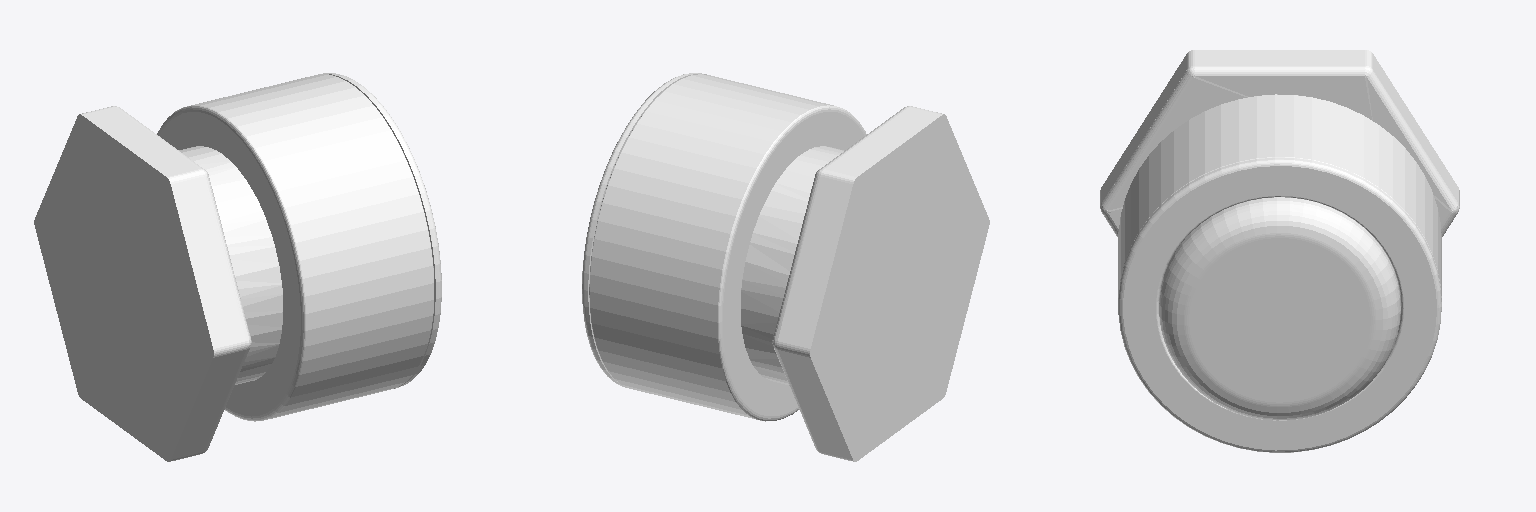
The model's file is button_light.obj.
The picture shows the model from 3 angles: view 1: azimuth 30°, elevation 25°; view 2: azimuth 150°, elevation 25°; view 3: azimuth 270°, elevation 25°; orthographic projection.
Parts seen in each view (by area): view 1: button_base_button_base.mesh, box_button_box_button.mesh, silver_box_button_silver_box_button.mesh; view 2: button_base_button_base.mesh, box_button_box_button.mesh, silver_box_button_silver_box_button.mesh; view 3: transparent_button_transparent_button.mesh, silver_box_button_silver_box_button.mesh, box_button_box_button.mesh, button_base_button_base.mesh.
Boxes of the visible parts, x1,y1,x2,y2 form: button_base_button_base.mesh: [34, 106, 282, 461]; box_button_box_button.mesh: [157, 74, 433, 421]; silver_box_button_silver_box_button.mesh: [323, 73, 441, 388]; button_base_button_base.mesh: [741, 106, 989, 461]; box_button_box_button.mesh: [589, 74, 866, 421]; silver_box_button_silver_box_button.mesh: [582, 73, 706, 387]; transparent_button_transparent_button.mesh: [1159, 197, 1400, 420]; silver_box_button_silver_box_button.mesh: [1118, 158, 1441, 452]; box_button_box_button.mesh: [1118, 94, 1441, 297]; button_base_button_base.mesh: [1100, 50, 1459, 236].
Bounding box in the file's own units: 16 × 17 × 18.88.